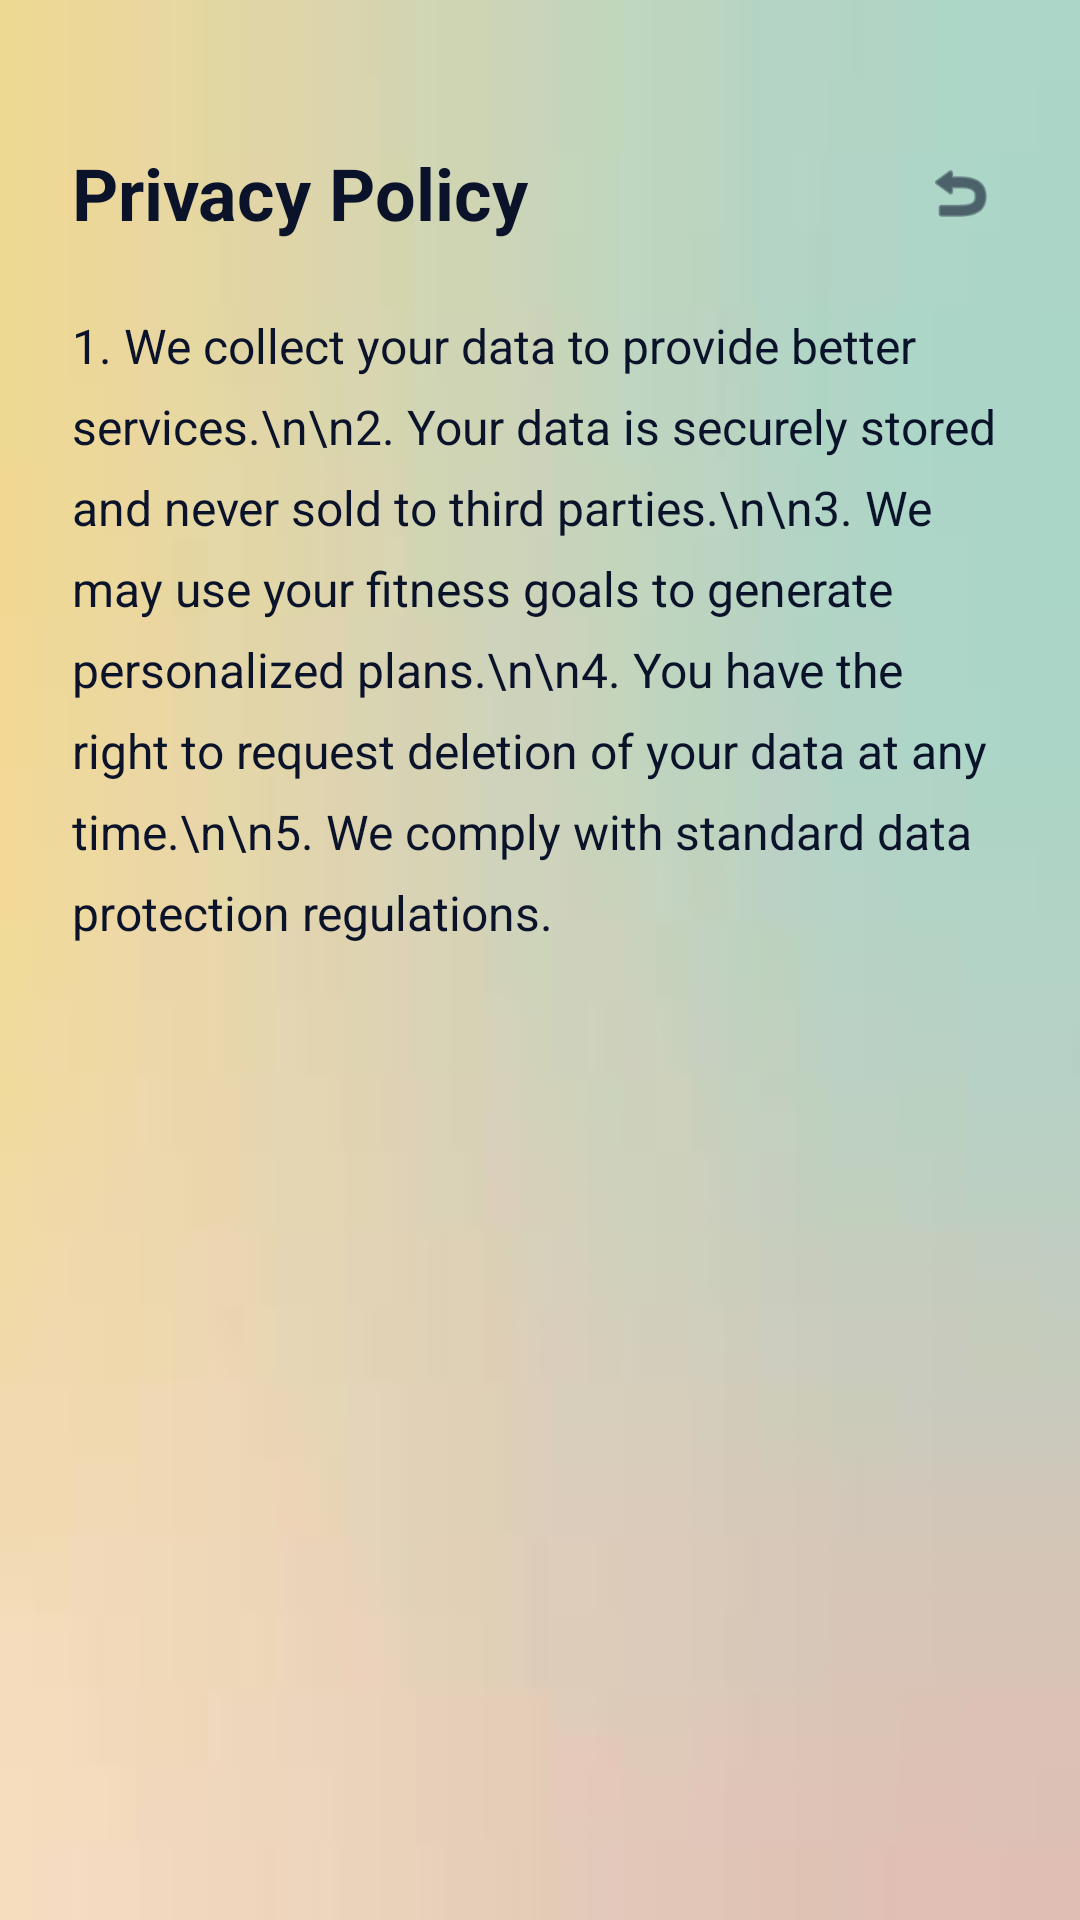

Where to tap for icons on this 1080w x 1920h app screen, as (x,y):
revert: (961,193)
